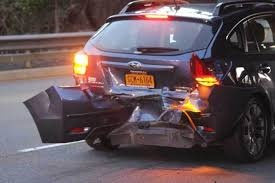Broken-glass: (188, 59, 234, 84)
Smashed: (37, 87, 224, 149)
